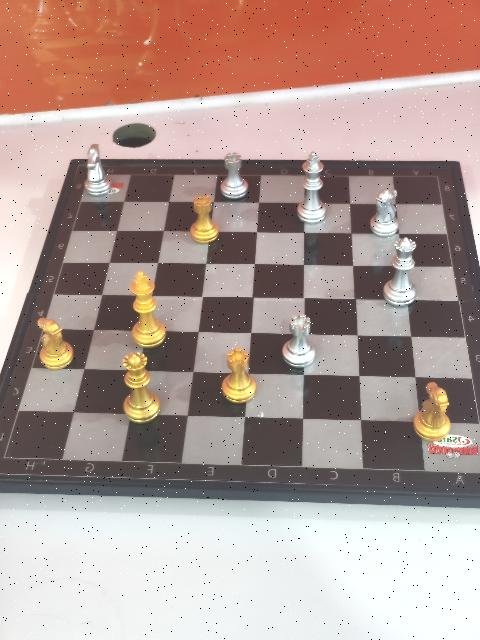black_king: (130, 272, 166, 346)
black_knight: (413, 382, 454, 444), (36, 317, 74, 372)
black_queen: (121, 353, 161, 425)
black_rook: (220, 349, 258, 407), (189, 195, 219, 246)
white_bishop: (84, 146, 113, 198)
white_king: (297, 151, 327, 226)
white_knight: (368, 189, 399, 238)
white_queen: (384, 237, 418, 307)
white_rook: (282, 314, 317, 371), (218, 153, 249, 201)
